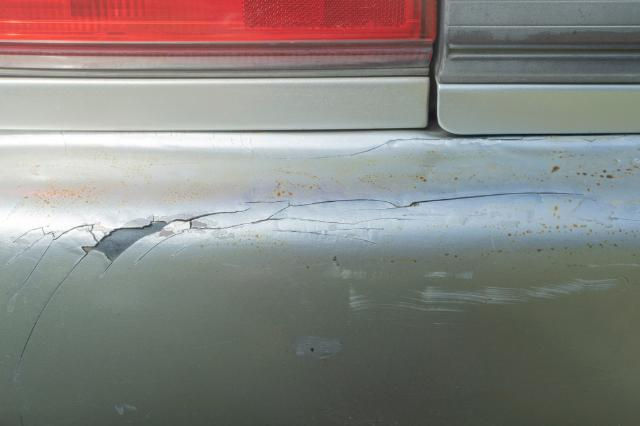scratch: (335, 264, 640, 329), (286, 332, 352, 366)
